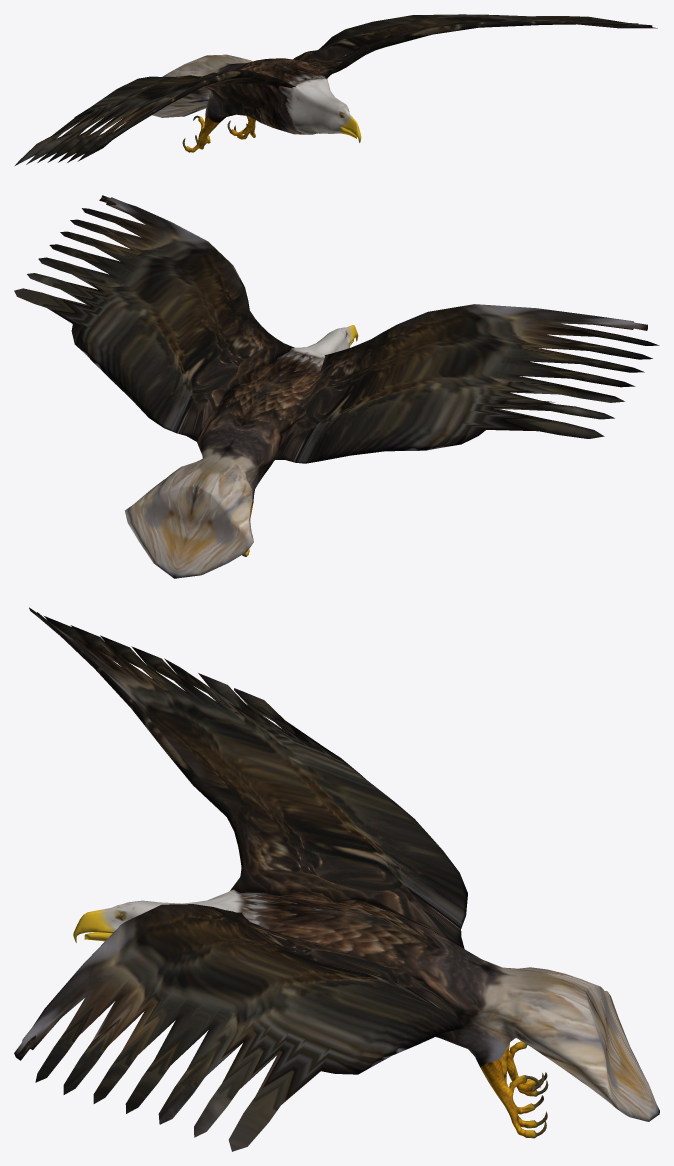
The model's file is Eagle-original_000024.obj.
3 views of the same model, one above another, from view 1: azimuth 30°, elevation 25°; view 2: azimuth 150°, elevation 25°; view 3: azimuth 270°, elevation 25° (orthographic). The views are drawn at different scales.
Visible parts, largest first — view 1: Flugel_Plane.003; view 2: Flugel_Plane.003; view 3: Flugel_Plane.003.
Part boxes in pixels (box(x1,y1,x2,y2)): Flugel_Plane.003: box(15, 14, 657, 165); Flugel_Plane.003: box(14, 195, 659, 578); Flugel_Plane.003: box(14, 607, 659, 1151).
Bounding box in the file's own units: 10.77 × 3.29 × 6.32.
1 material, 1 textured.
